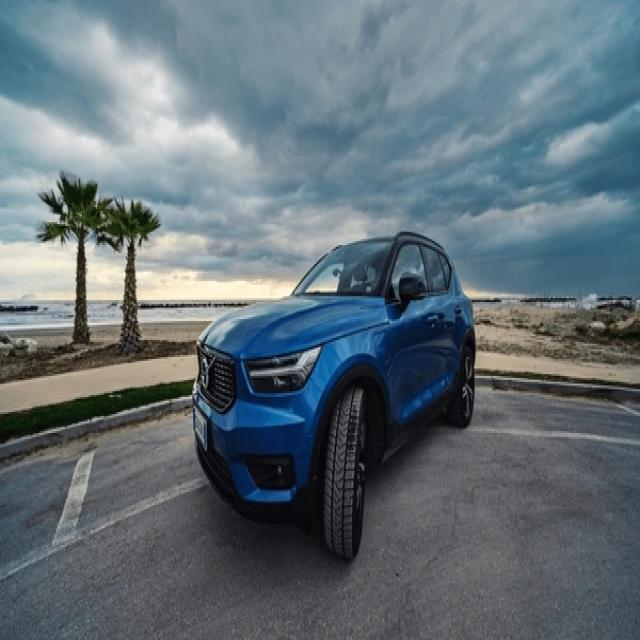toyota: (191, 353, 215, 400)
